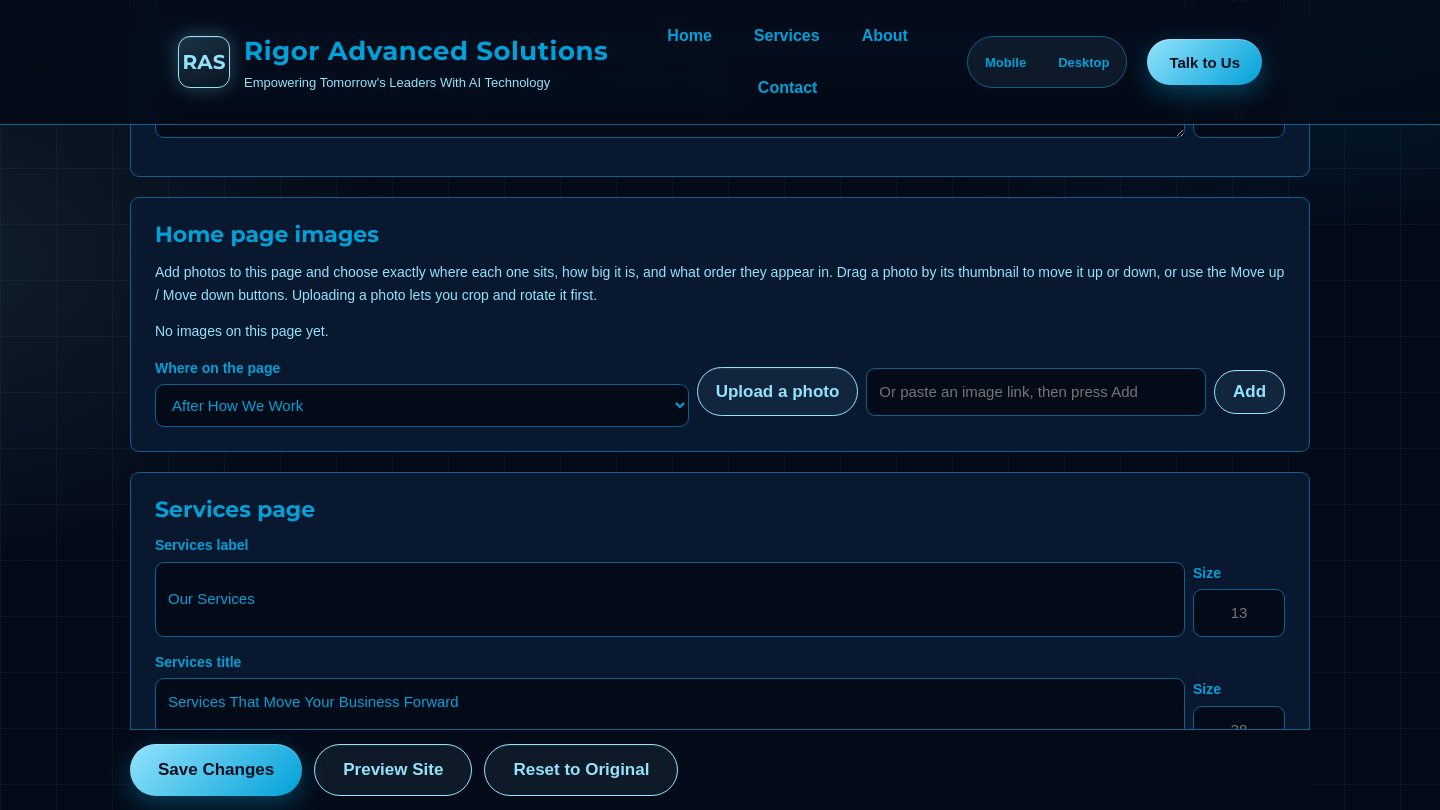
Test: Image placement — images anywhere on every page › offers every section boundary in the Add picker and adds an image at the chosen slot
(page scrolled)
Expected: the text "Home page images" is shown, [155,221,379,248]
// Add an image at After Why Rigor, by URL.
Step 1. Select "After Why Rigor" in the dropdown → {"x": 422, "y": 406}, box [155,384,689,427]
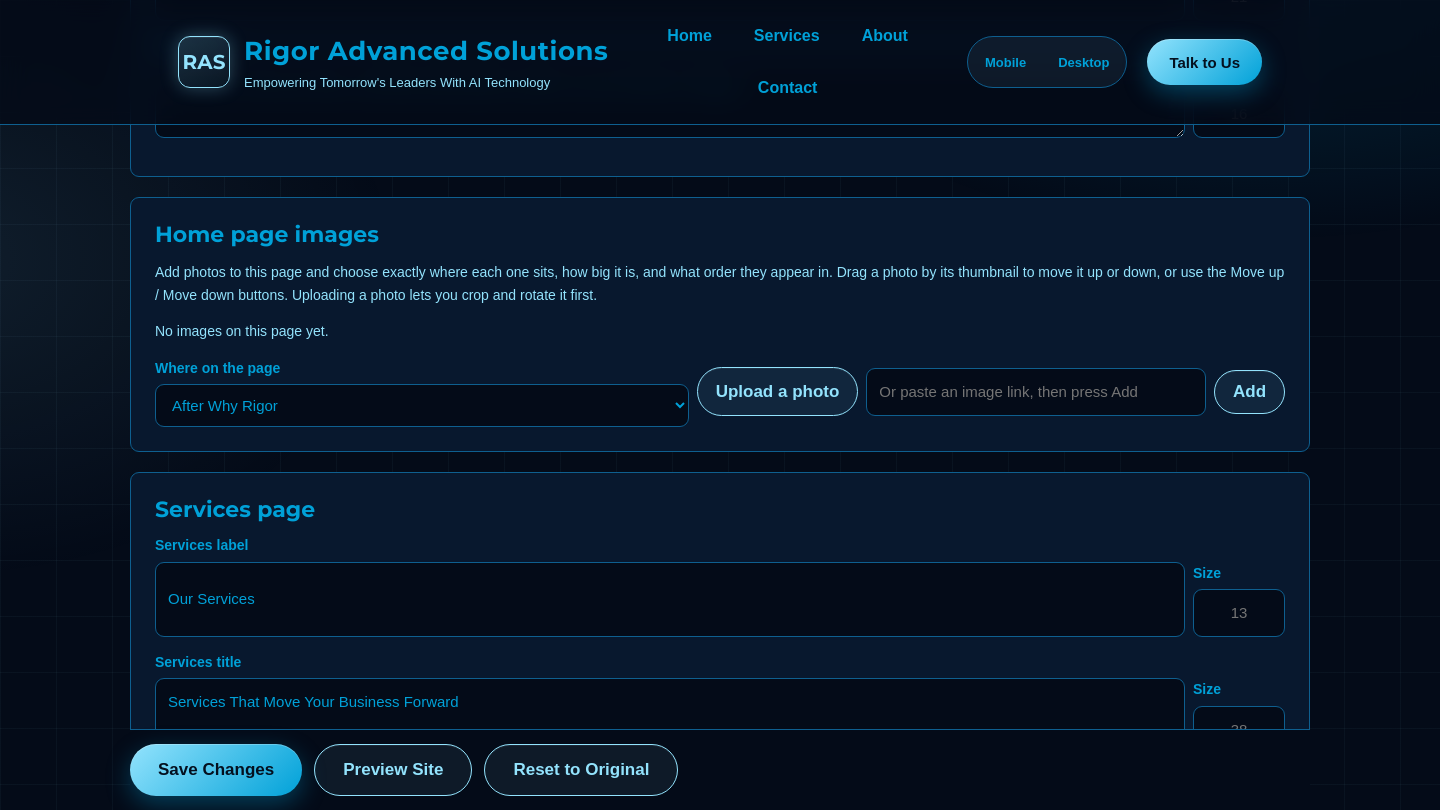
Step 2. Type "https://example.com/a.jpg" into the field with placeholder "Or paste an image link, then press Add" → {"x": 1036, "y": 392}, box [866,368,1206,416]
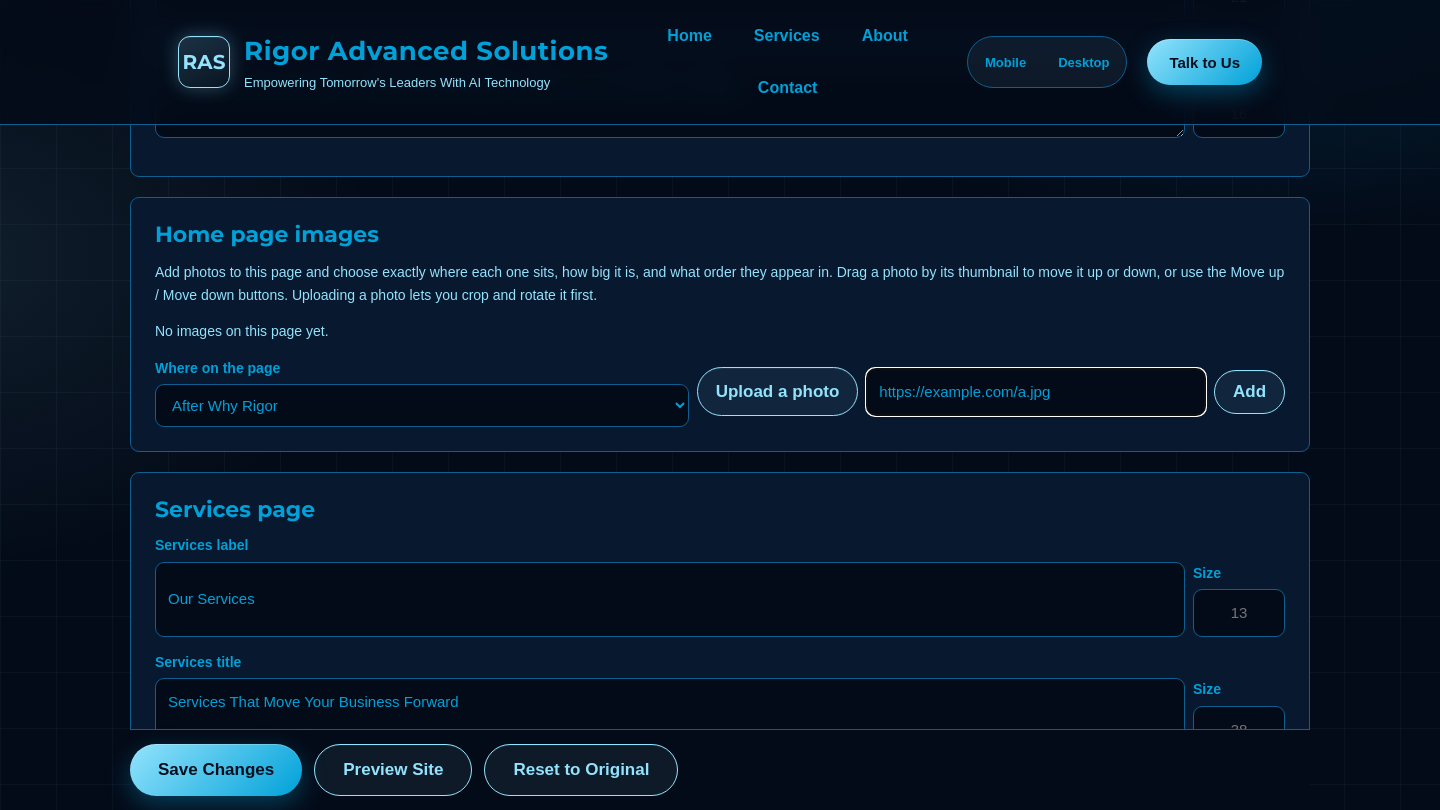
Step 3. Click the button "Add" → {"x": 1250, "y": 392}, box [1214,370,1285,414]
(page scrolled)
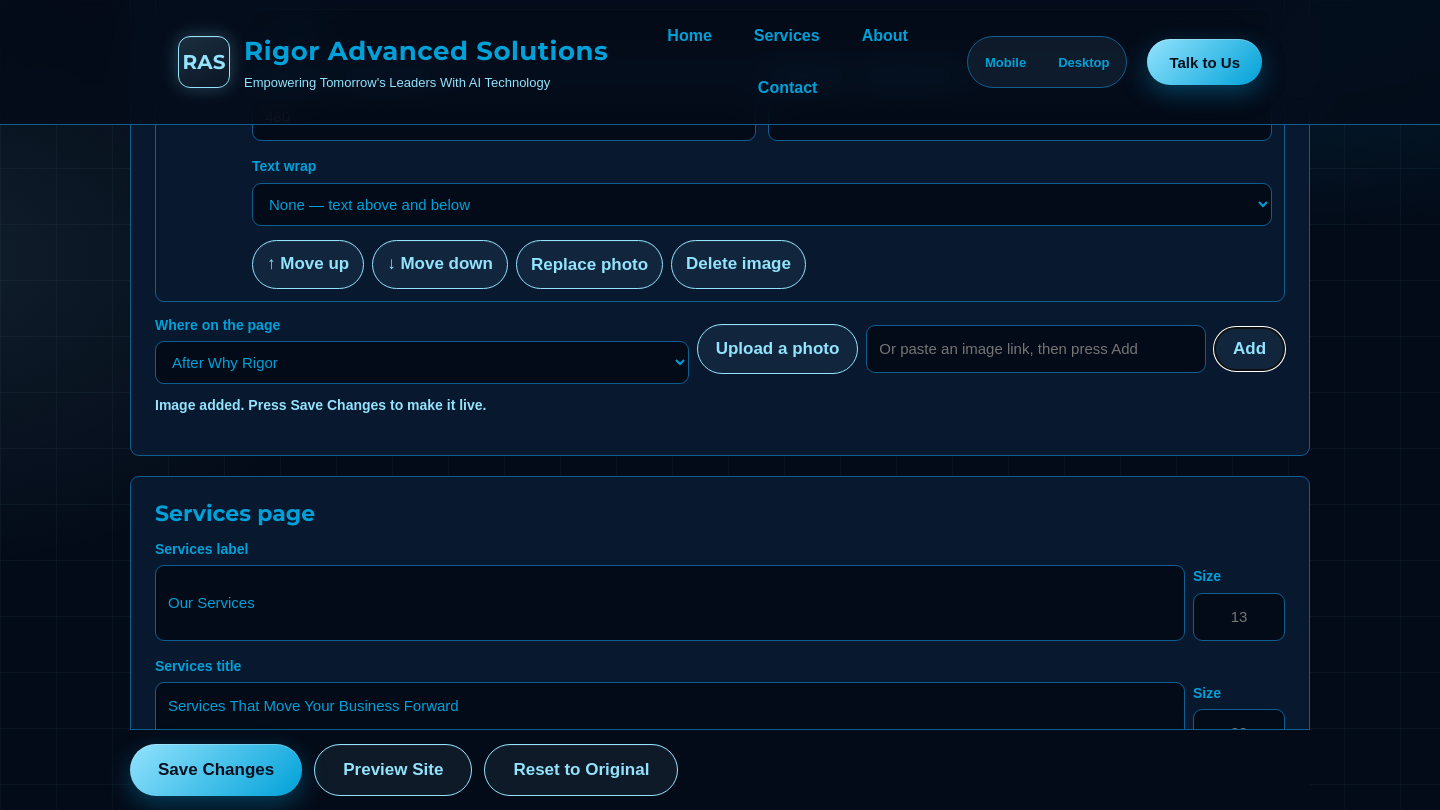
Now the text "Image added. Press Save Changes to make it live." is shown, box [155,397,486,413]
